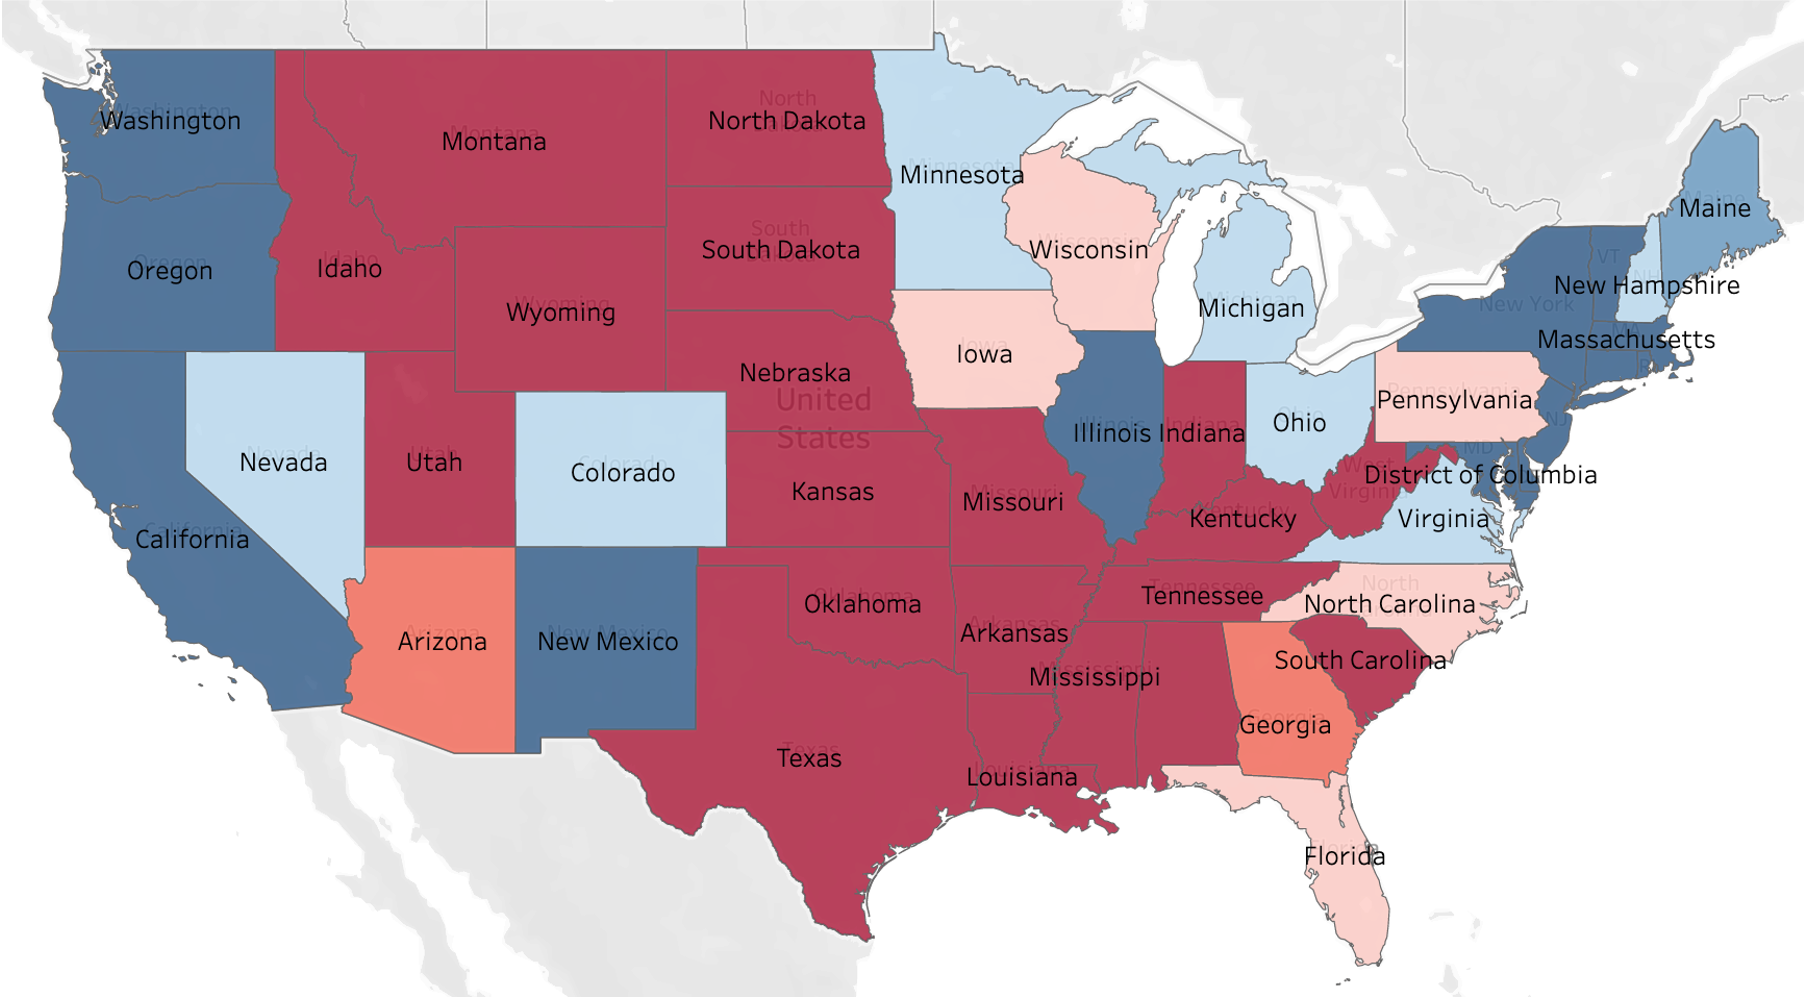

This screenshot's page, from the dashboard's own definition file:
{"tool":"tableau","page":{"name":"Dashboard 1","canvas":[1000,800],"ordinal":0},"visuals":[{"type":"worksheet","title":"Sheet 1","mark":"Automatic","box":[8,8,984,709]},{"type":"legend","title":"Sheet 1","param":"[federated.0lg8ws11livke415stike06yap8l].[sum:Map:qk]","box":[8,717,984,75]}]}

Visuals, with their boxes on the page's 1000x800 design canvas (x1, y1, x2, y2). These are canvas units, not pixel positions in the 1804x997 screenshot, which may show the page scaled, cropped or inside an application window:
"Sheet 1" worksheet: BBox(8, 8, 992, 717)
"Sheet 1" legend: BBox(8, 717, 992, 792)
